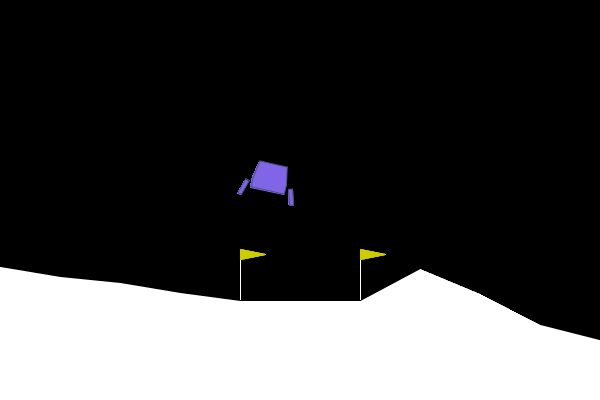lander: (236, 156, 303, 208)
